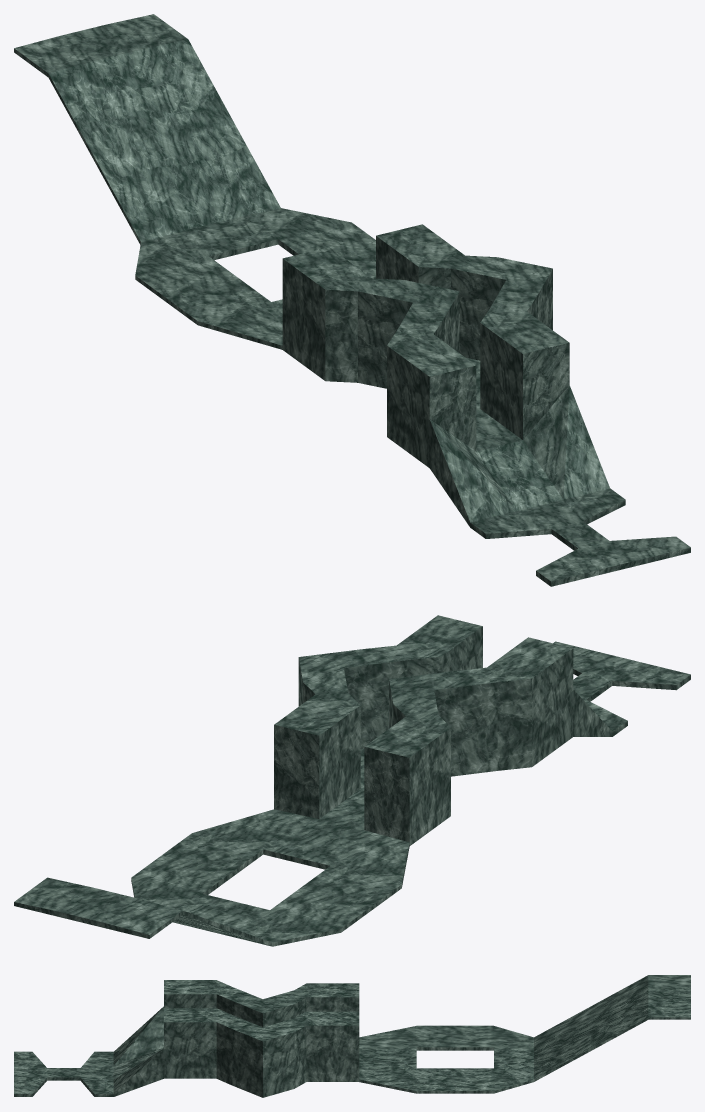
File: map.dae
3 views of the same model, one above another, from view 1: azimuth 30°, elevation 25°; view 2: azimuth 150°, elevation 25°; view 3: azimuth 270°, elevation 25° (orthographic). The views are drawn at different scales.
Parts seen in each view (by area): view 1: map-col; view 2: map-col; view 3: map-col.
Boxes of the visible parts, box(x1,y1,x2,y2) form: map-col: box(14, 14, 690, 586); map-col: box(14, 615, 690, 946); map-col: box(14, 975, 690, 1097).
Size of what is drawn, in the model's own units: 21.1 by 86.77 by 11.87.
